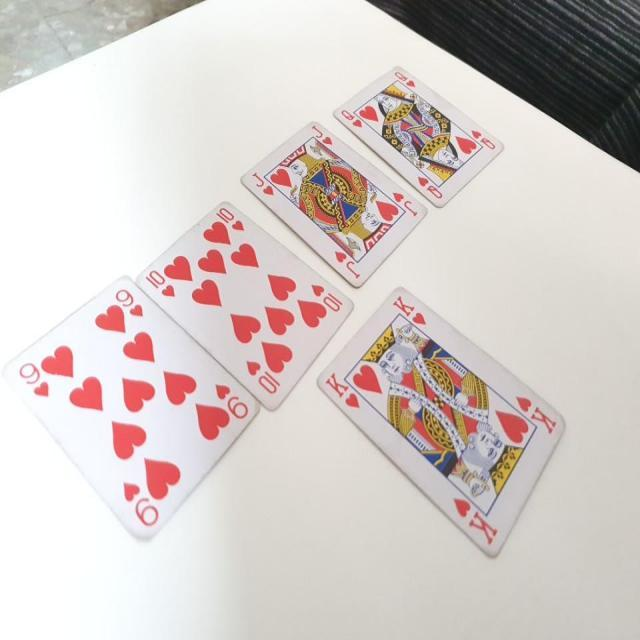10 of hearts: (135, 192, 357, 415)
9 of hearts: (2, 270, 262, 561)
jack of hearts: (238, 117, 431, 298)
king of hearts: (312, 280, 566, 564)
queen of hearts: (330, 56, 507, 207)
